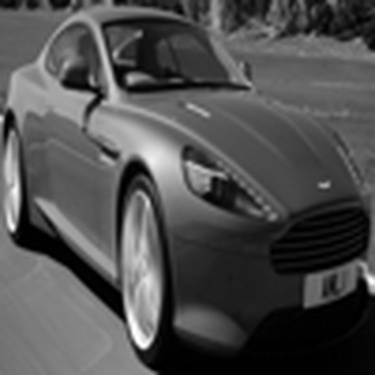car: (2, 6, 369, 367)
